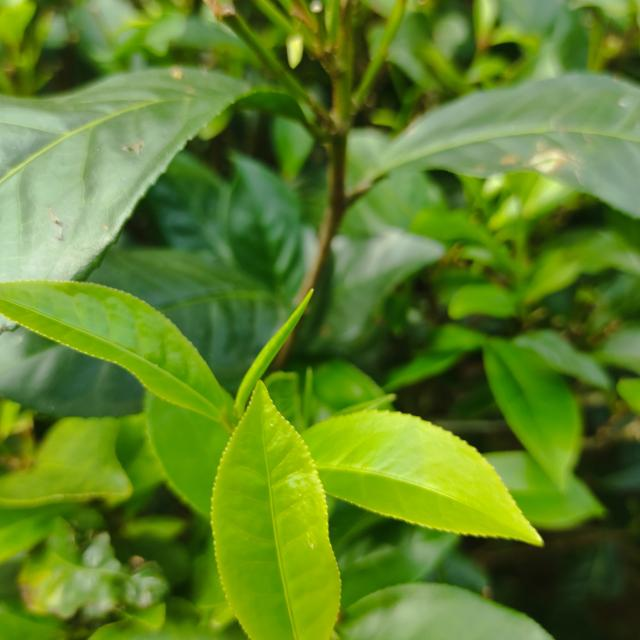unopened_leaf: (224, 285, 323, 430)
